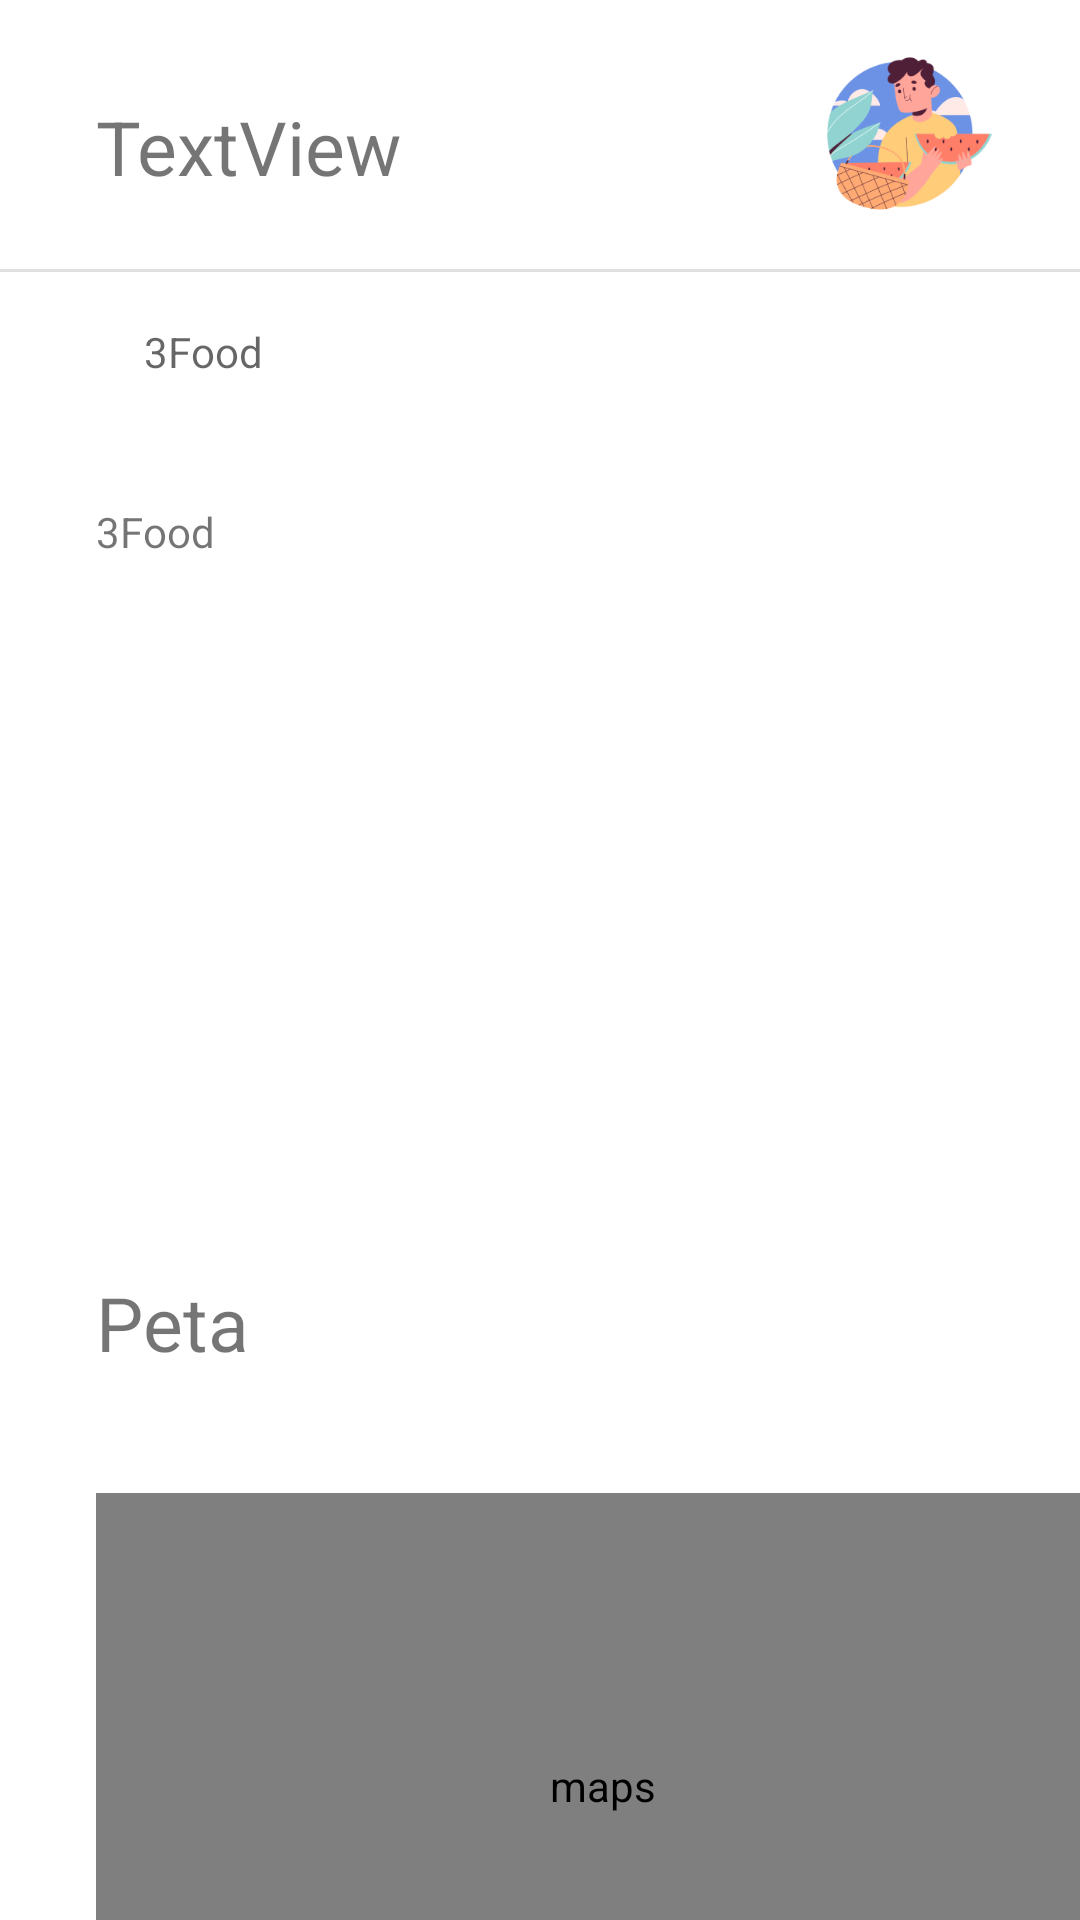

Screen size 1080 × 1920. Icon name, then its box in pixels as {"x1": x1, "y1": y1, "x2": x2, "y2": y2}:
eating: {"x1": 827, "y1": 57, "x2": 992, "y2": 210}
